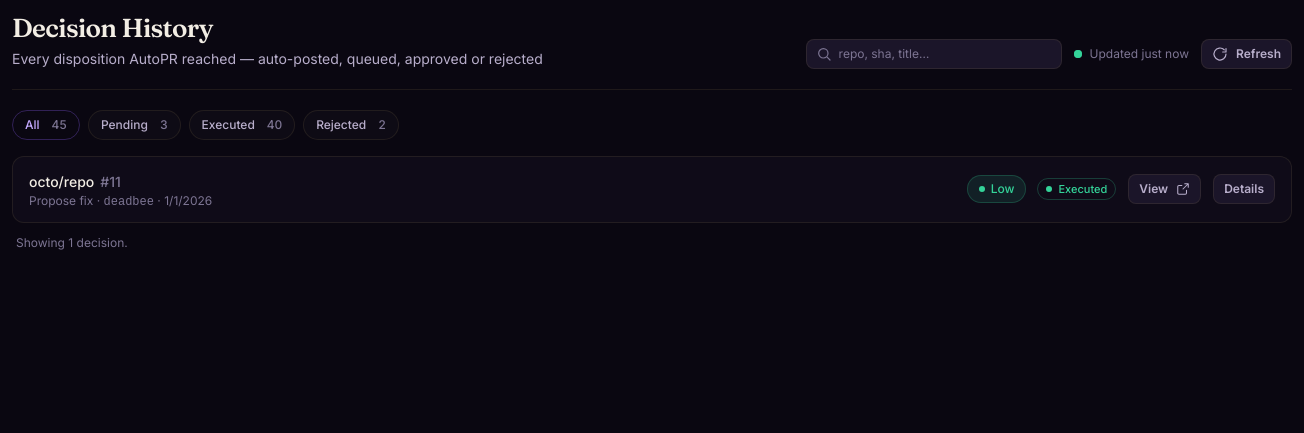
Test: History › expands a row to show the exact body that was posted
expect the text "octo/repo" is shown: met, box [29, 172, 94, 192]
Click the button "Details" at (1244, 189), box [1213, 174, 1275, 204]
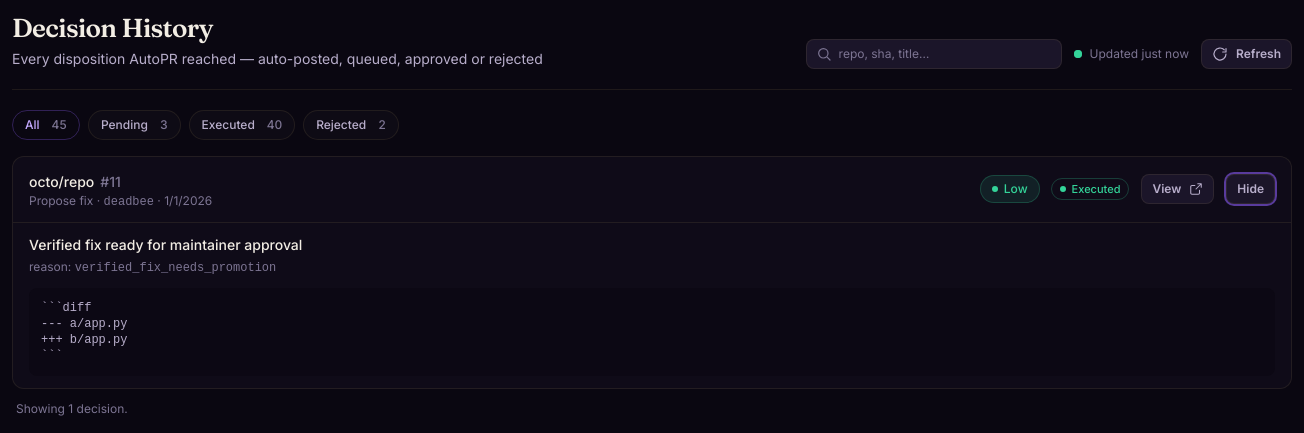
expect the text "```diff --- a/app.py +++ b/app.py ```" is shown: met, box [29, 288, 1275, 376]
expect the text "verified_fix_needs_promotion" is shown: met, box [75, 260, 276, 274]
